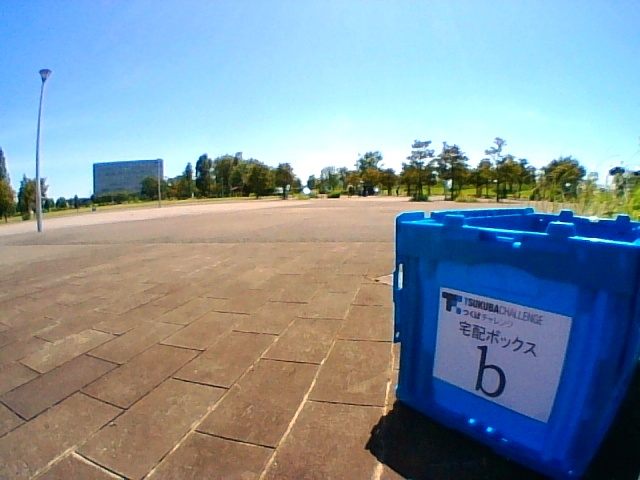blue_box: (396, 213, 640, 399)
tag_b: (475, 313, 549, 397)
